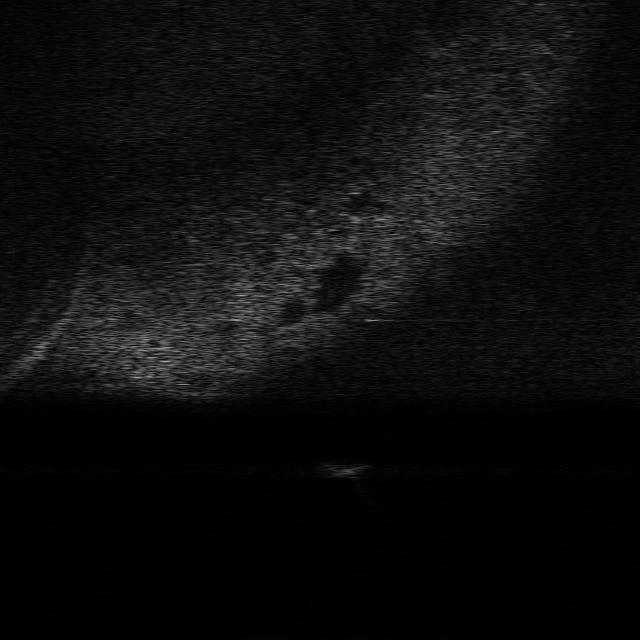cube: (318, 459, 372, 477)
